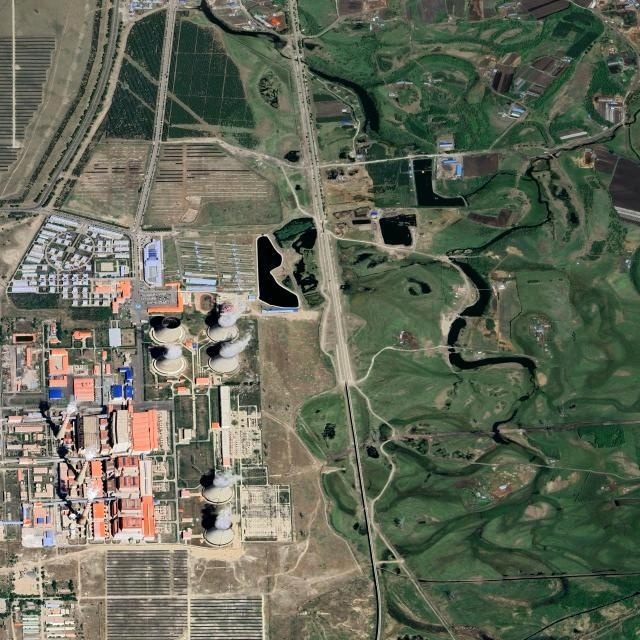coal_fired_power_plant: (0, 312, 291, 549)
